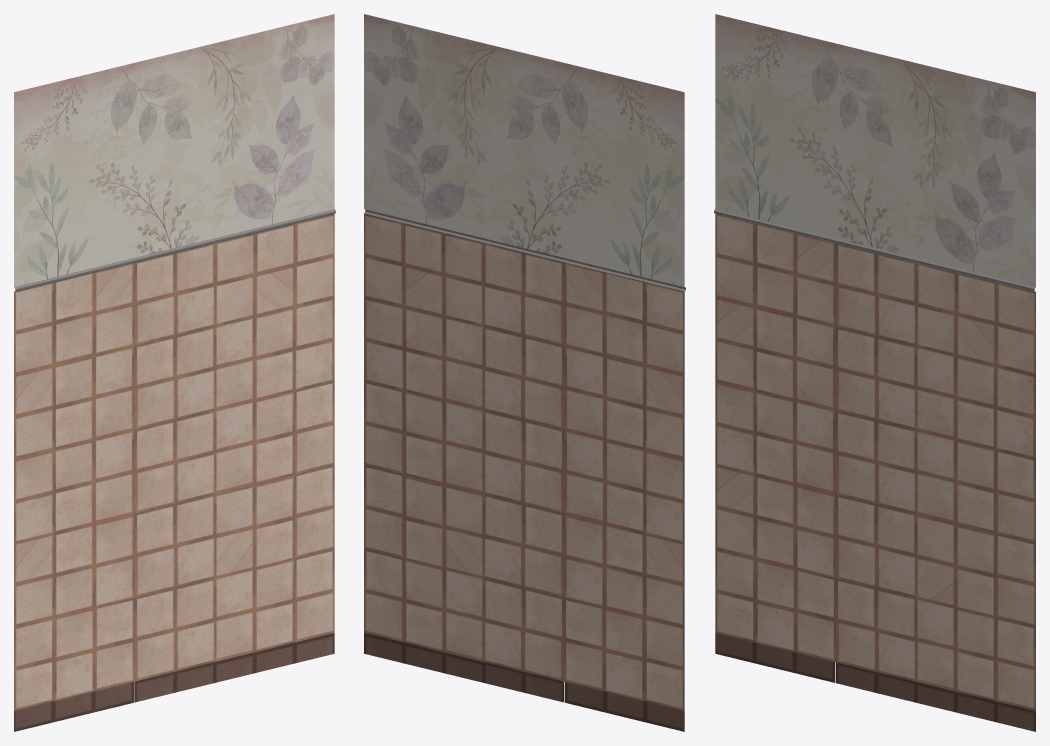
The model's file is MT_BR_Middle_Wall_Small.fbx.
The picture shows the model from 3 angles, left to right: view 1: azimuth 30°, elevation 25°; view 2: azimuth 150°, elevation 25°; view 3: azimuth 330°, elevation 25°; orthographic projection.
Visible parts, largest first — view 1: Middle_Wall2; view 2: Middle_Wall2; view 3: Middle_Wall2.
Boxes of the visible parts, <box> form: Middle_Wall2: <box>14,14,335,731</box>; Middle_Wall2: <box>364,14,685,731</box>; Middle_Wall2: <box>714,14,1035,731</box>.
Size of the model in its own units: 160 by 305 by 0.9588.
